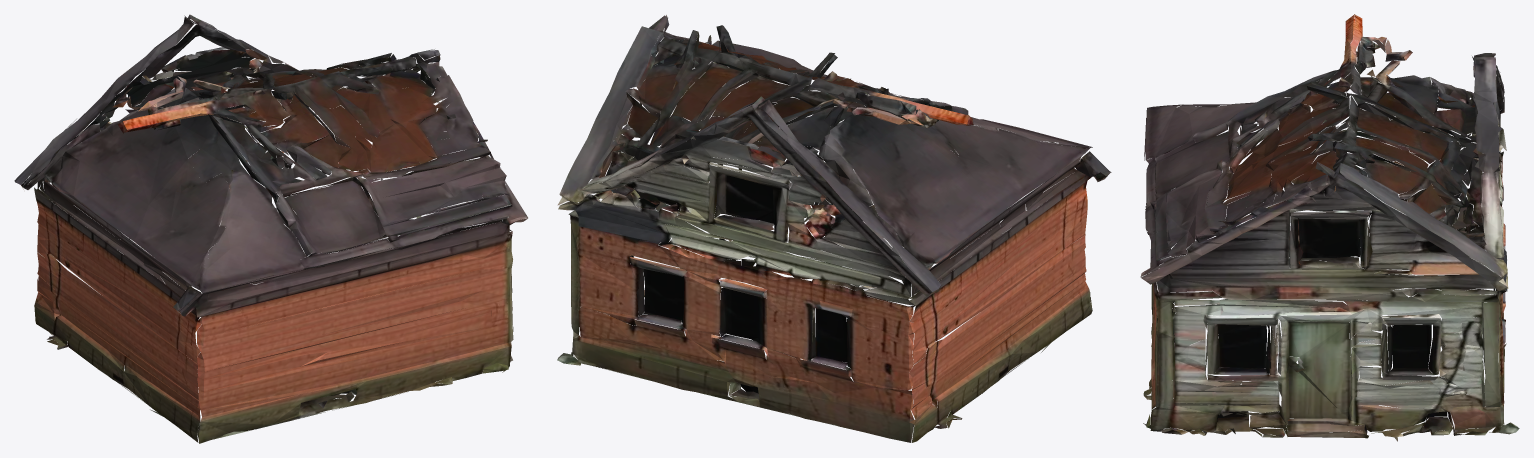
Rendered from ruined-house-shell.glb.
3 views of the same model, side by side, from view 1: azimuth 30°, elevation 25°; view 2: azimuth 150°, elevation 25°; view 3: azimuth 270°, elevation 25° (orthographic). The views are drawn at different scales.
Parts seen in each view (by area): view 1: tmp_ps1o45y.ply; view 2: tmp_ps1o45y.ply; view 3: tmp_ps1o45y.ply.
Boxes of the visible parts, left/top/right/bottom form: tmp_ps1o45y.ply: left=14, top=14, right=527, bottom=443; tmp_ps1o45y.ply: left=557, top=15, right=1111, bottom=442; tmp_ps1o45y.ply: left=1140, top=14, right=1519, bottom=441.
Bounding box in the file's own units: 8 × 6 × 7.
1 material, 1 textured.
